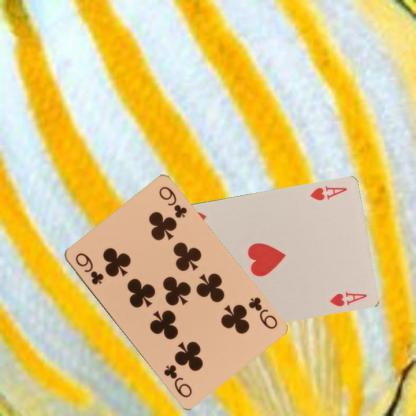9c: (245, 294, 278, 331), (72, 250, 105, 286)
Ah: (308, 183, 348, 202)
